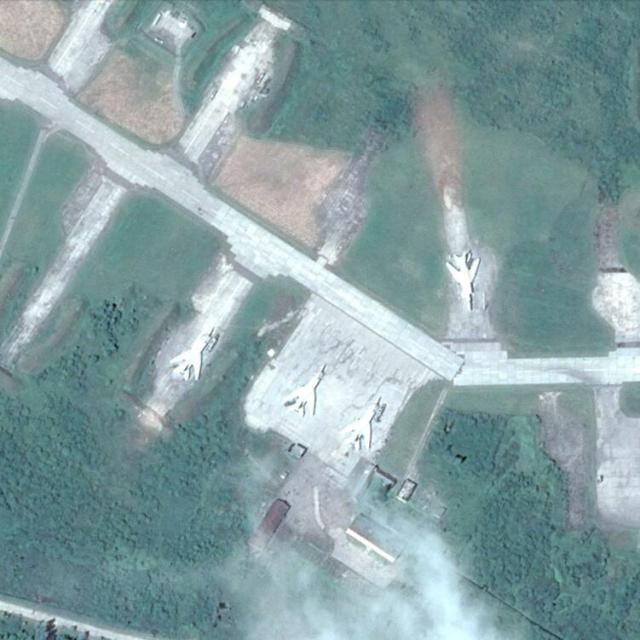fighter jet: (165, 330, 213, 384), (444, 248, 486, 308), (334, 395, 380, 449), (284, 360, 322, 415)
